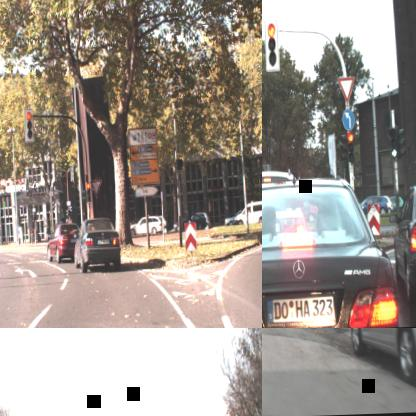give way: (337, 76, 356, 104), (90, 179, 102, 198)
go left or straight: (342, 108, 355, 131)
